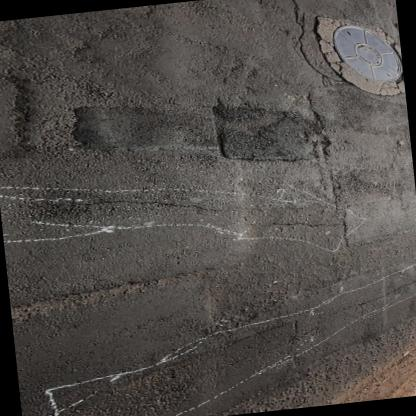manholes: (298, 5, 405, 111)
